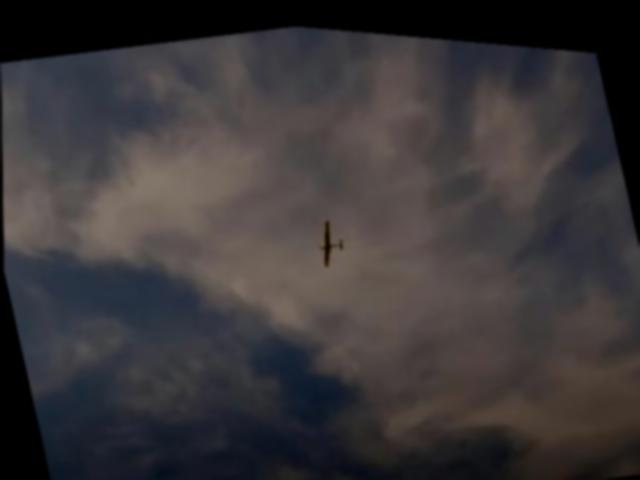iha: (308, 211, 348, 265)
